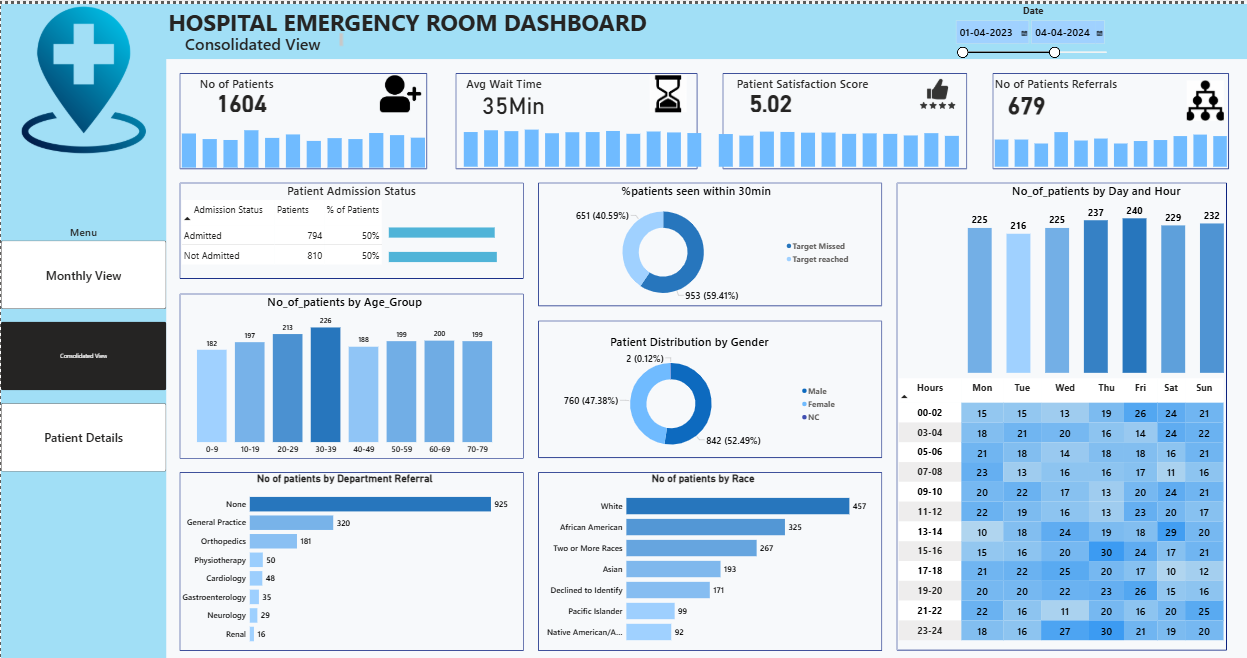

The page's visual inventory and layout, read from the dashboard file:
{"tool":"powerbi","page":{"name":"Consolidated View","canvas":[2900,1550],"ordinal":1},"visuals":[{"type":"shape","box":[0,0,384,1536],"z":0},{"type":"shape","box":[416,160,576,224],"z":0,"group":"g5"},{"type":"shape","box":[1056,160,562.6,224],"z":0,"group":"g2"},{"type":"shape","box":[1677.5,160,568.8,224],"z":0,"group":"g3"},{"type":"shape","box":[2304,160,550,224],"z":0,"group":"g4"},{"type":"shape","box":[416,416,800,224],"z":0,"group":"g1"},{"type":"shape","box":[416,672,800,384],"z":0,"group":"g7"},{"type":"shape","box":[416,1088,800,416],"z":0,"group":"g6"},{"type":"shape","box":[1248,1088,800,416],"z":0,"group":"g8"},{"type":"shape","box":[384,0,2624,128],"z":1000},{"type":"textbox","box":[457.1,160,411.4,64],"z":1000,"group":"g5"},{"type":"textbox","box":[1069.4,160,401.9,56],"z":1000,"group":"g2"},{"type":"textbox","box":[1705.6,160,416,64],"z":1000,"group":"g3"},{"type":"textbox","box":[2304,160,392.9,56],"z":1000,"group":"g4"},{"type":"pivotTable","title":"Patient Admission Status","fields":{"Rows":["Hospital ER_Data.Patient Admission Status"],"Values":["dax.No_of_patients1","dax.No_of_patients"]},"box":[416,416,800,196],"z":1000,"group":"g1"},{"type":"clusteredColumnChart","fields":{"Category":["Hospital ER_Data.Age_Group"],"Y":["dax.No_of_patients"]},"box":[416,672,768,384],"z":1000,"group":"g7"},{"type":"clusteredBarChart","title":"No of patients by Department Referral","fields":{"Category":["Hospital ER_Data.Department Referral"],"Y":["dax.No_of_patients"]},"box":[416,1088,768,416],"z":1000,"group":"g6"},{"type":"textbox","box":[384,0,1280,128],"z":2000},{"type":"card","fields":{"Values":["dax.Avg_Wait_time"]},"box":[1069.4,188,241.1,84],"z":2000,"group":"g2"},{"type":"card","fields":{"Values":["dax.Patients_referred"]},"box":[2304,188,157.1,84],"z":2000,"group":"g4"},{"type":"card","fields":{"Values":["dax.No_of_patients"]},"box":[416,192,288,64],"z":2000,"group":"g5"},{"type":"card","fields":{"Values":["dax.Satisfaction_score"]},"box":[1705.6,192,166.4,64],"z":2000,"group":"g3"},{"type":"barChart","fields":{"Y":["dax.No_of_patients"],"Category":["Hospital ER_Data.Patient Admission Status"]},"box":[896,480,320,160],"z":2000,"group":"g1"},{"type":"columnChart","fields":{"Y":["dax.No_of_patients"],"Category":["Date_table.Month"]},"box":[416,256,576,128],"z":3000,"group":"g5"},{"type":"columnChart","fields":{"Y":["Avg(Hospital ER_Data.Patient Waittime)"],"Category":["Date_table.Month"]},"box":[1069.4,272,562.6,112],"z":3000,"group":"g2"},{"type":"columnChart","fields":{"Y":["Avg(Hospital ER_Data.Patient Satisfaction Score)"],"Category":["Date_table.Month"]},"box":[1664,272,568.8,112],"z":3000,"group":"g3"},{"type":"columnChart","fields":{"Y":["dax.Patients_referred"],"Category":["Date_table.Month"]},"box":[2304,272,550,112],"z":3000,"group":"g4"},{"type":"group","id":"g1","title":"Group 1","box":[416,416,800,224],"z":3000},{"type":"group","id":"g2","title":"Group 3","box":[1056,160,576,224],"z":4000},{"type":"group","id":"g3","title":"Group 4","box":[1664,160,576,224],"z":5000},{"type":"group","id":"g4","title":"Group 5","box":[2304,160,544,224],"z":6000},{"type":"group","id":"g5","title":"Group 2","box":[416,160,576,224],"z":7000},{"type":"shape","box":[1248,416,800,288],"z":8000},{"type":"group","id":"g6","title":"Group 6","box":[416,1088,800,416],"z":9000},{"type":"group","id":"g7","title":"Group 7","box":[416,672,800,384],"z":10000},{"type":"shape","box":[1248,736,800,320],"z":11000},{"type":"donutChart","title":"%patients seen within 30min","fields":{"Category":["Hospital ER_Data.Waitime_status"],"Y":["dax.No_of_patients"]},"box":[1248,416,736,288],"z":12000},{"type":"clusteredBarChart","title":"No of patients by Race","fields":{"Y":["dax.No_of_patients"],"Category":["Hospital ER_Data.Patient Race"]},"box":[1248,1088,768,416],"z":13000},{"type":"slicer","title":"Date","fields":{"Values":["Date_table.Date"]},"box":[2208,0,384,128],"z":14000},{"type":"donutChart","title":"Patient Distribution by Gender","fields":{"Y":["dax.No_of_patients"],"Category":["Hospital ER_Data.Patient Gender"]},"box":[1248,768,704,288],"z":15000},{"type":"group","id":"g8","title":"Group 6","box":[1248,1088,800,416],"z":16000},{"type":"shape","box":[2080,416,768,1088],"z":17000},{"type":"pivotTable","fields":{"Rows":["Hospital ER_Data.Waitime_Interval"],"Columns":["Date_table.Day_Name"],"Values":["dax.No_of_patients"]},"box":[2080,864,768,640],"z":18000},{"type":"columnChart","title":"No_of_patients by Day and Hour","fields":{"Category":["Date_table.Day_Name"],"Y":["dax.No_of_patients"]},"box":[2240,416,608,448],"z":19000},{"type":"image","box":[864,160,128,96],"z":20000},{"type":"image","box":[2112,160,128,96],"z":21000},{"type":"image","box":[1504,160,96,96],"z":22000},{"type":"image","box":[2752,160,96,128],"z":23000},{"type":"image","box":[0,0,384,352],"z":24000},{"type":"pageNavigator","title":"Menu","box":[0,512,384,576],"z":25000},{"type":"textbox","box":[384,64,416,64],"z":25001}]}

Visuals, with their boxes on the page's 2900x1550 design canvas (x1, y1, x2, y2). These are canvas units, not pixel positions in the 1247x658 screenshot, which may show the page scaled, cropped or inside an application window:
shape: 0:0:384:1536
shape: 416:160:992:384
shape: 1056:160:1619:384
shape: 1678:160:2246:384
shape: 2304:160:2854:384
shape: 416:416:1216:640
shape: 416:672:1216:1056
shape: 416:1088:1216:1504
shape: 1248:1088:2048:1504
shape: 384:0:3008:128
textbox: 457:160:868:224
textbox: 1069:160:1471:216
textbox: 1706:160:2122:224
textbox: 2304:160:2697:216
"Patient Admission Status" pivotTable: 416:416:1216:612
clusteredColumnChart - Hospital ER_Data.Age_Group x dax.No_of_patients: 416:672:1184:1056
"No of patients by Department Referral" clusteredBarChart: 416:1088:1184:1504
textbox: 384:0:1664:128
card - dax.Avg_Wait_time: 1069:188:1310:272
card - dax.Patients_referred: 2304:188:2461:272
card - dax.No_of_patients: 416:192:704:256
card - dax.Satisfaction_score: 1706:192:1872:256
barChart - dax.No_of_patients x Hospital ER_Data.Patient Admission Status: 896:480:1216:640
columnChart - dax.No_of_patients x Date_table.Month: 416:256:992:384
columnChart - Avg(Hospital ER_Data.Patient Waittime) x Date_table.Month: 1069:272:1632:384
columnChart - Avg(Hospital ER_Data.Patient Satisfaction Score) x Date_table.Month: 1664:272:2233:384
columnChart - dax.Patients_referred x Date_table.Month: 2304:272:2854:384
"Group 1" group: 416:416:1216:640
"Group 3" group: 1056:160:1632:384
"Group 4" group: 1664:160:2240:384
"Group 5" group: 2304:160:2848:384
"Group 2" group: 416:160:992:384
shape: 1248:416:2048:704
"Group 6" group: 416:1088:1216:1504
"Group 7" group: 416:672:1216:1056
shape: 1248:736:2048:1056
"%patients seen within 30min" donutChart: 1248:416:1984:704
"No of patients by Race" clusteredBarChart: 1248:1088:2016:1504
"Date" slicer: 2208:0:2592:128
"Patient Distribution by Gender" donutChart: 1248:768:1952:1056
"Group 6" group: 1248:1088:2048:1504
shape: 2080:416:2848:1504
pivotTable - Hospital ER_Data.Waitime_Interval x Date_table.Day_Name: 2080:864:2848:1504
"No_of_patients by Day and Hour" columnChart: 2240:416:2848:864
image: 864:160:992:256
image: 2112:160:2240:256
image: 1504:160:1600:256
image: 2752:160:2848:288
image: 0:0:384:352
"Menu" pageNavigator: 0:512:384:1088
textbox: 384:64:800:128
